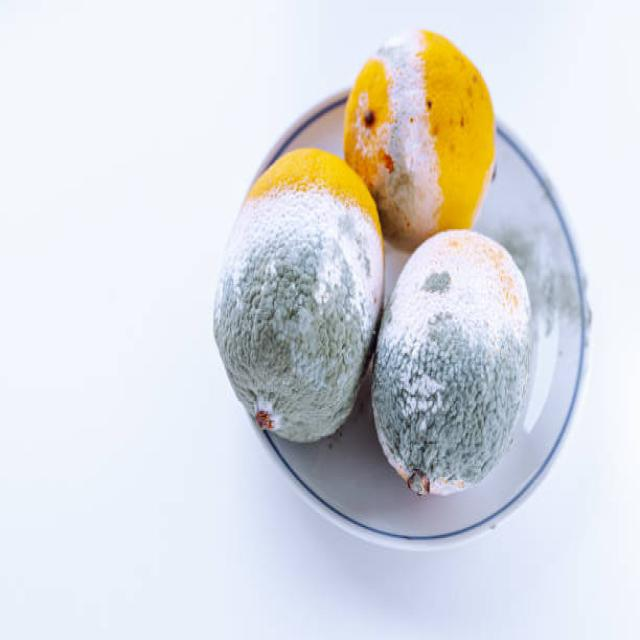Rotten: (211, 145, 384, 442), (372, 225, 536, 498)
